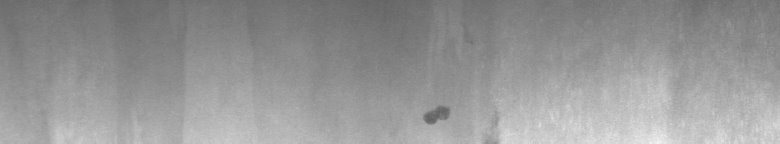fi: (420, 100, 503, 132)
